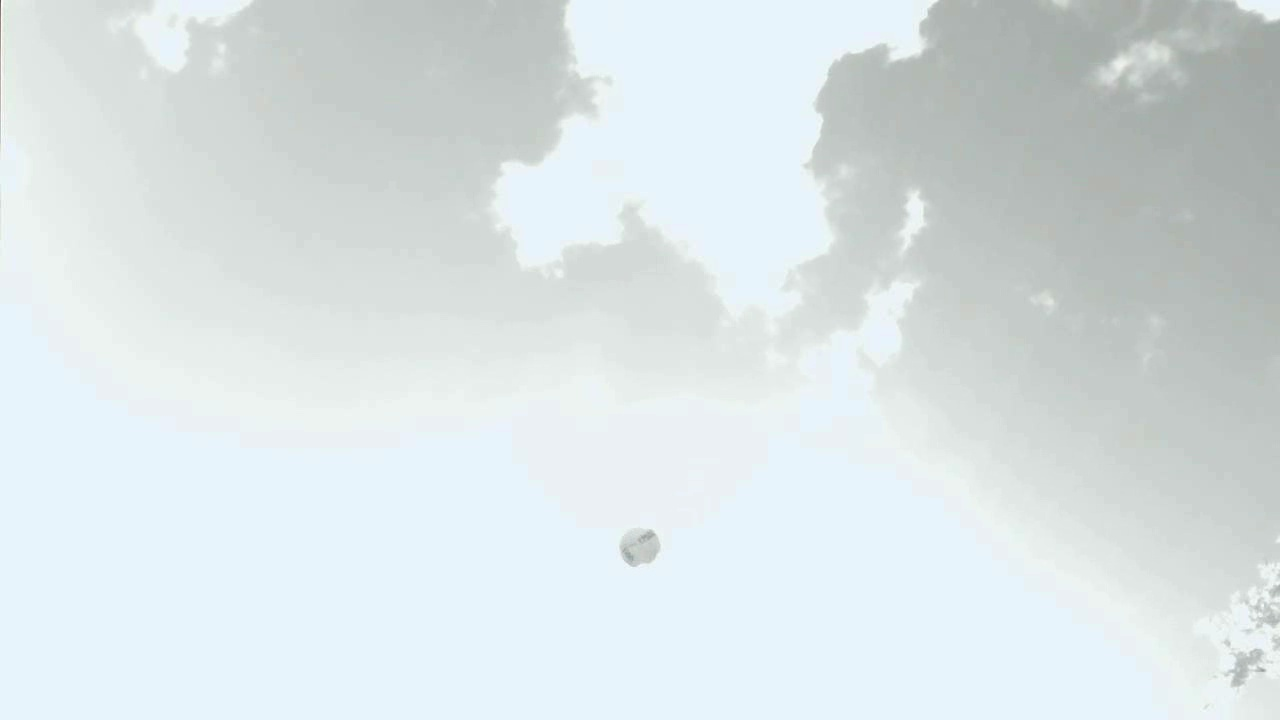Football-Spotter: (620, 528, 660, 564)
